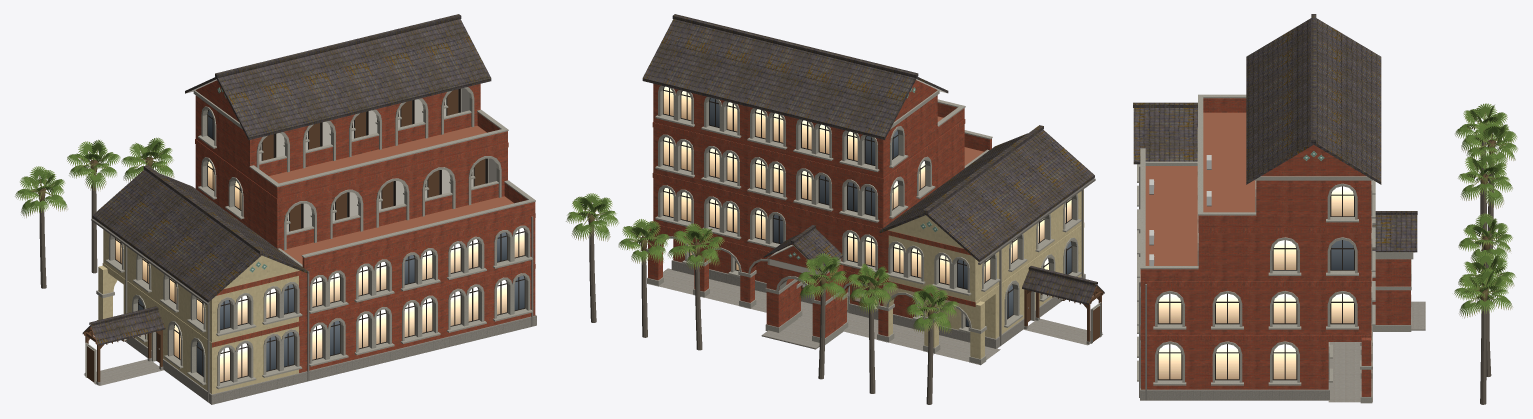
The model's file is campus_gongtong.glb.
3 views of the same model, side by side, from view 1: azimuth 30°, elevation 25°; view 2: azimuth 150°, elevation 25°; view 3: azimuth 270°, elevation 25° (orthographic). The views are drawn at different scales.
Parts seen in each view (by area): view 1: gt_wall, gt_roof, gt_wash, wz_vc_gt, gt_glass, gt_band, gt_base; view 2: gt_roof, gt_wall, gt_wash, wz_vc_gt, gt_glass, gt_base, gt_band; view 3: gt_wall, gt_roof, wz_vc_gt, gt_wash, gt_glass, gt_base, gt_band.
Boxes of the visible parts, bbox=[...] form: gt_wall: bbox=[98, 80, 535, 394]; gt_roof: bbox=[82, 14, 491, 345]; gt_wash: bbox=[85, 87, 535, 389]; wz_vc_gt: bbox=[15, 79, 533, 402]; gt_glass: bbox=[115, 111, 524, 382]; gt_band: bbox=[102, 139, 535, 347]; gt_base: bbox=[84, 315, 536, 404]; gt_roof: bbox=[642, 14, 1104, 304]; gt_wall: bbox=[648, 80, 1083, 358]; gt_wash: bbox=[646, 85, 1101, 365]; wz_vc_gt: bbox=[566, 79, 1104, 404]; gt_glass: bbox=[663, 86, 1071, 326]; gt_base: bbox=[647, 259, 1102, 364]; gt_band: bbox=[652, 119, 1084, 306]; gt_wall: bbox=[1141, 98, 1410, 396]; gt_roof: bbox=[1133, 14, 1417, 252]; wz_vc_gt: bbox=[1139, 103, 1517, 404]; gt_wash: bbox=[1137, 94, 1414, 403]; gt_glass: bbox=[1158, 186, 1353, 379]; gt_base: bbox=[1140, 301, 1425, 402]; gt_band: bbox=[1140, 216, 1371, 340].
Size of the model in its own units: 31.44 by 17.69 by 23.46.
9 materials, 5 textured.
